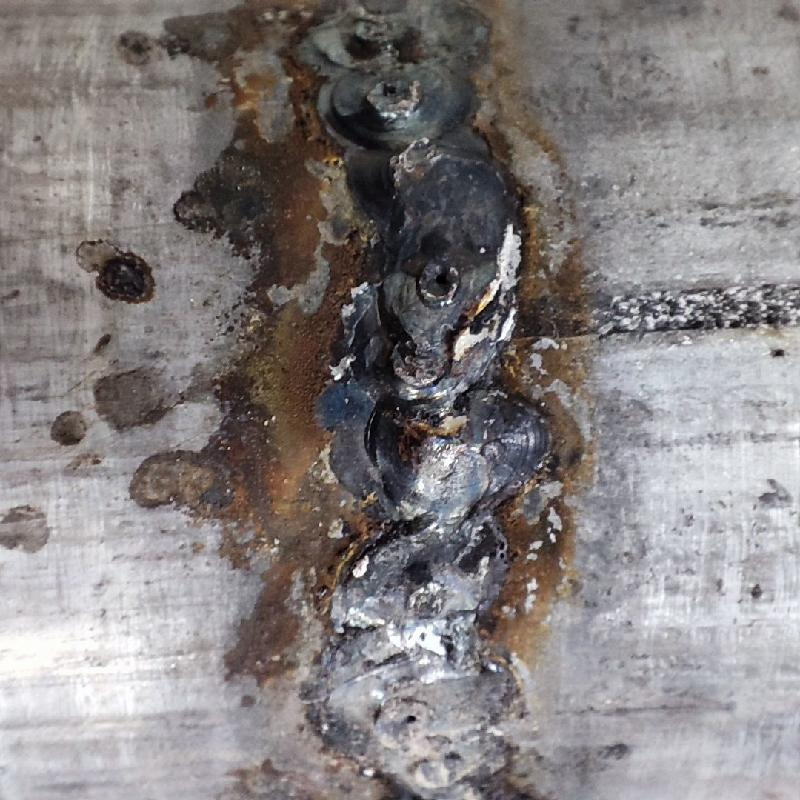Surface_pores: (387, 695, 440, 740), (422, 258, 467, 301), (374, 72, 416, 105)
wrong_size: (303, 5, 564, 515)
